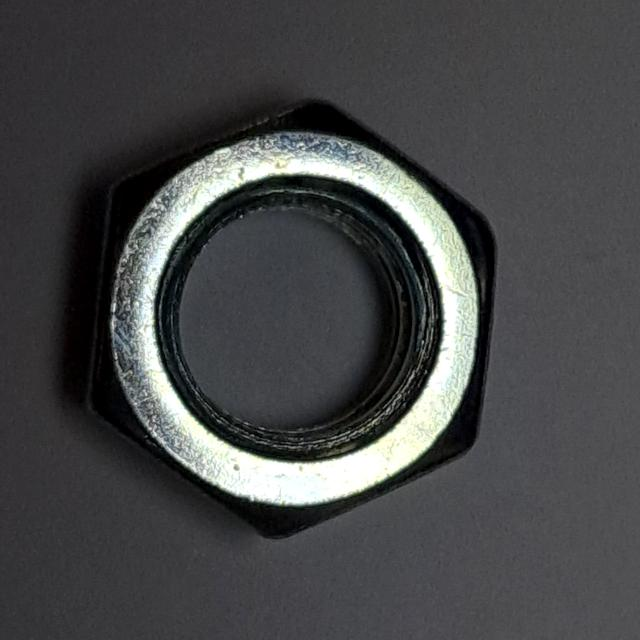Excellent: (79, 79, 510, 556)
